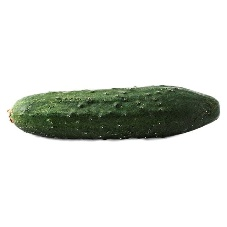cucumber: (9, 85, 221, 141)
